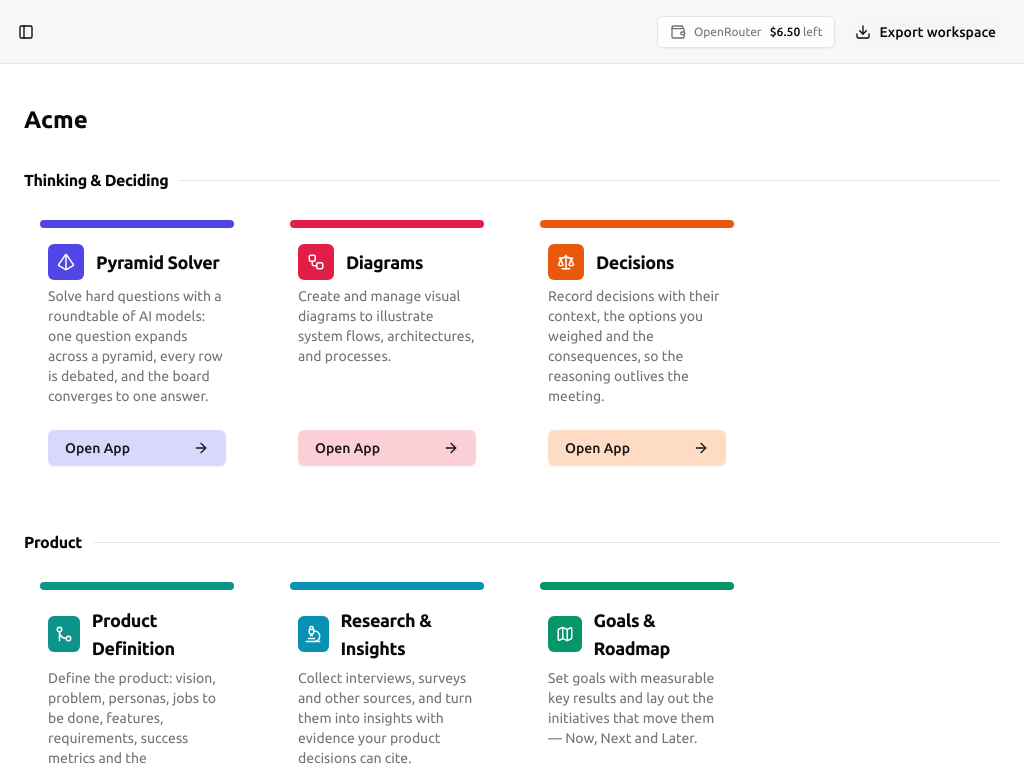
Test: OpenRouter in the header › shows what is left on the key and the usage details
Check: the text "$6.50" is shown, box top-left (770, 24), bottom-right (800, 38)
Click the button with aria-label "OpenRouter usage" at (746, 32), box top-left (657, 16), bottom-right (836, 48)
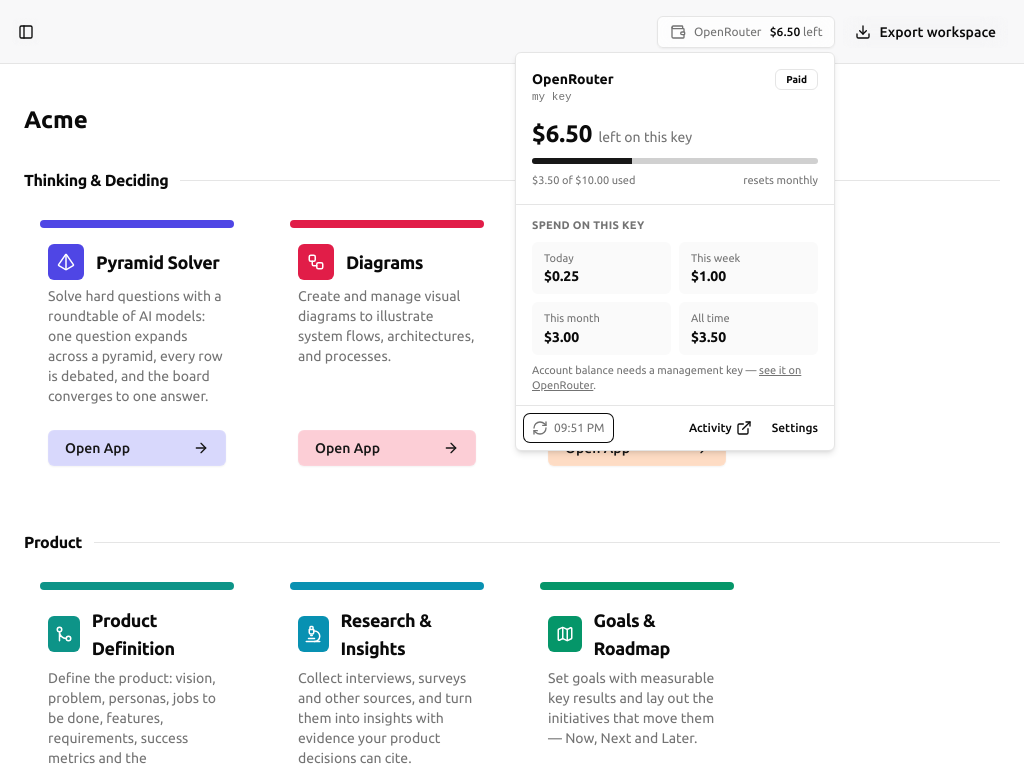
Check: the text "$3.50 of $10.00 used" is shown, box top-left (532, 172), bottom-right (636, 188)
Check: the text "resets monthly" is shown, box top-left (743, 172), bottom-right (818, 188)
Check: the text "$0.25" is shown, box top-left (544, 268), bottom-right (579, 284)
